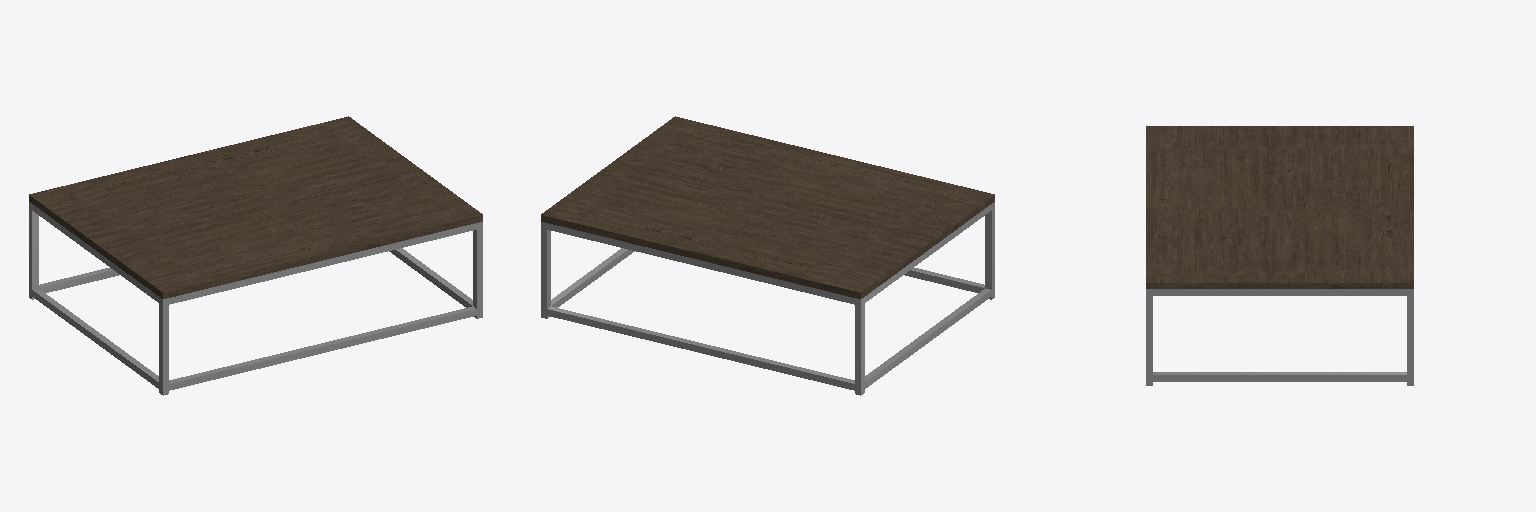
The picture shows the model from 3 angles: view 1: azimuth 30°, elevation 25°; view 2: azimuth 150°, elevation 25°; view 3: azimuth 270°, elevation 25°; orthographic projection.
Visible parts, largest first — view 1: solid_002, solid_001; view 2: solid_002, solid_001; view 3: solid_002, solid_001.
Part boxes in pixels (x1,y1,x2,y2): solid_002: (29, 116, 482, 298); solid_001: (29, 202, 482, 395); solid_002: (541, 116, 994, 298); solid_001: (541, 202, 994, 395); solid_002: (1146, 126, 1413, 288); solid_001: (1146, 289, 1413, 385).
Bounding box in the file's own units: 1.54 × 0.4726 × 1.12.
1 materials, 1 textured.